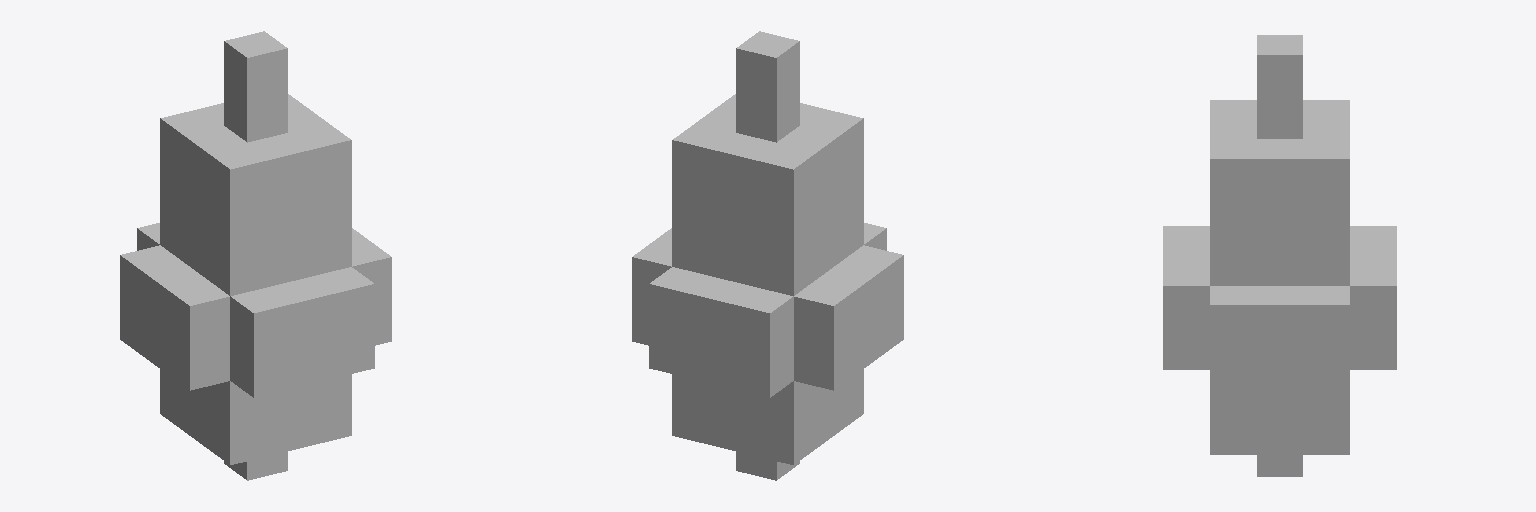
The model's file is 0_4 milh.obj.
3 renders of one model, left to right at view 1: azimuth 30°, elevation 25°; view 2: azimuth 150°, elevation 25°; view 3: azimuth 270°, elevation 25°, orthographic.
Parts seen in each view (by area): view 1: object 1; view 2: object 1; view 3: object 1.
Boxes of the visible parts, x1=… form: object 1: x1=120, y1=31, x2=391, y2=480; object 1: x1=632, y1=31, x2=903, y2=480; object 1: x1=1163, y1=35, x2=1396, y2=476.
Bounding box in the file's own units: 0.5 × 1 × 0.5.